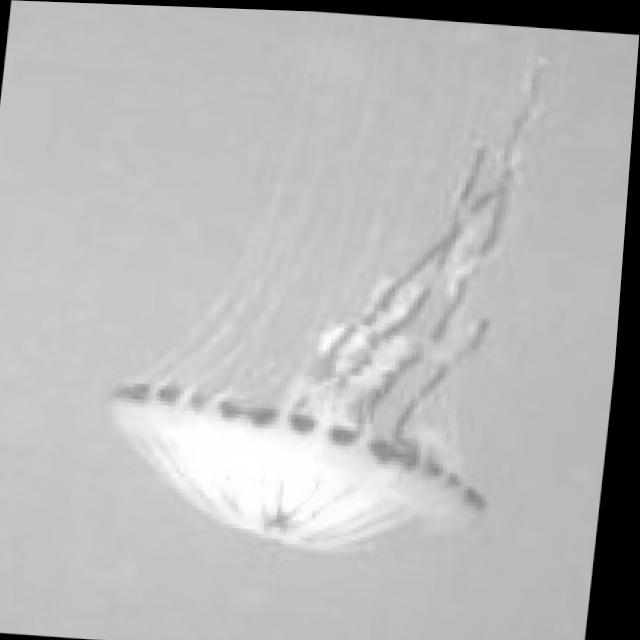Box-jellyfish: (96, 29, 551, 566)
